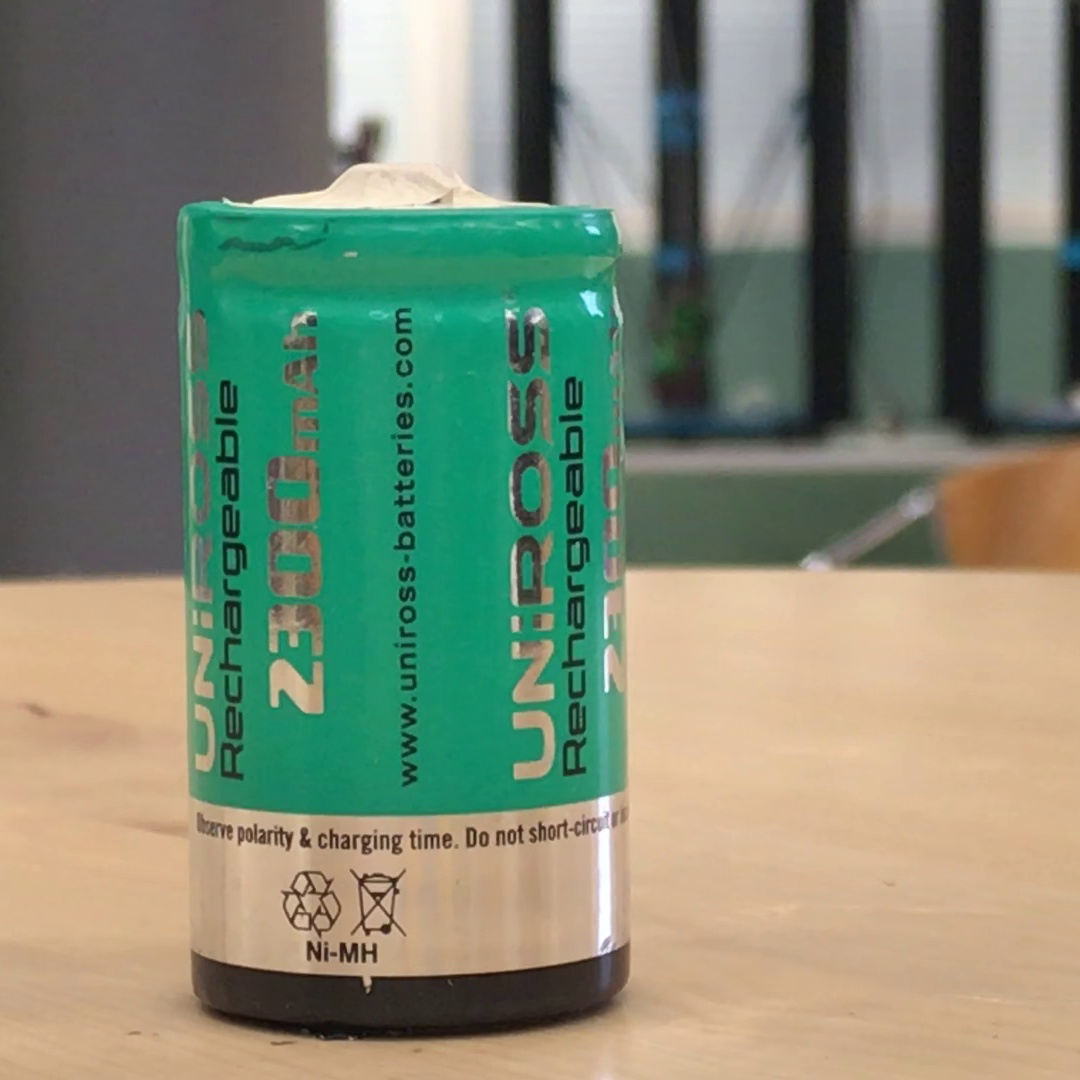keyword: (297, 933, 387, 972)
